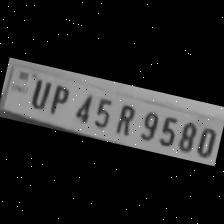0: (193, 123, 219, 159)
4: (67, 87, 96, 125)
5: (89, 93, 117, 131), (154, 111, 181, 149)
8: (174, 118, 200, 154)
9: (134, 106, 162, 143)
P: (43, 80, 72, 117)
R: (110, 98, 140, 138)
U: (25, 76, 52, 110)
